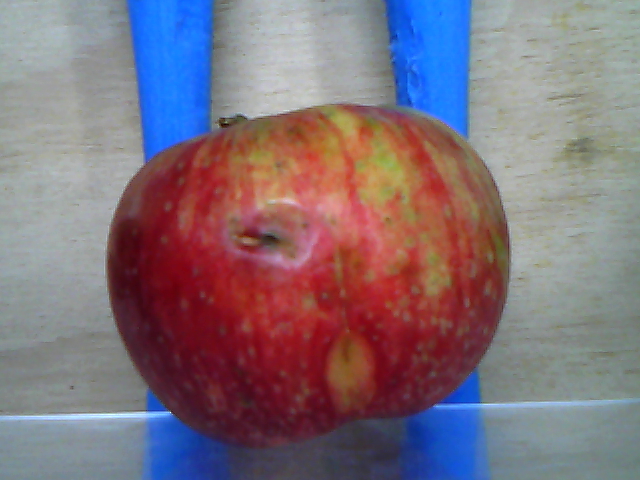cut: (233, 231, 278, 249)
